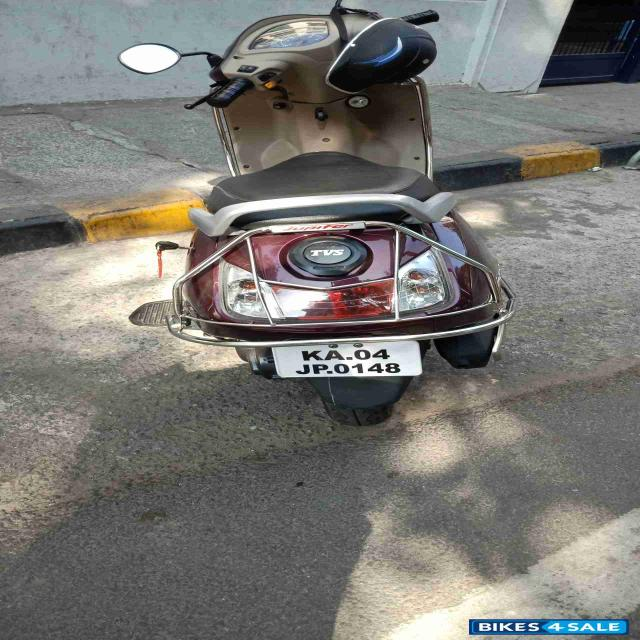number plate: (270, 339, 424, 378)
